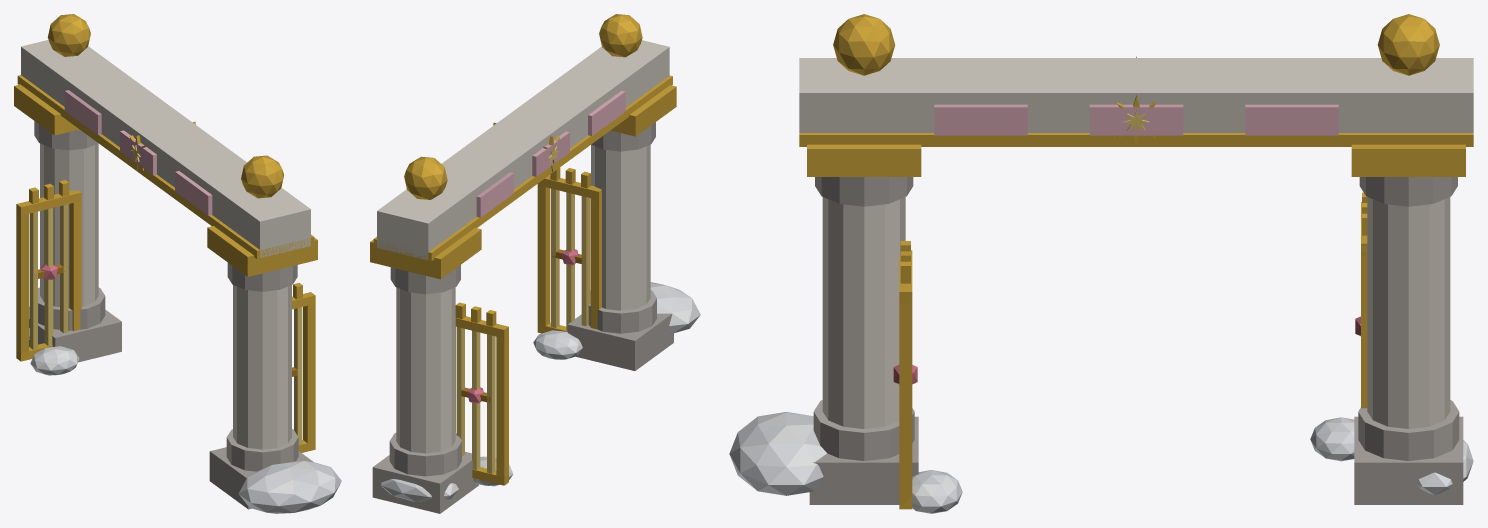
File: Decor_CloudTemple_PearlyGate.fbx
3 views of the same model, side by side, from view 1: azimuth 30°, elevation 25°; view 2: azimuth 150°, elevation 25°; view 3: azimuth 270°, elevation 25° (orthographic). The views are drawn at different scales.
Visible parts, largest first — view 1: PearlyGate_Body; view 2: PearlyGate_Body; view 3: PearlyGate_Body.
Part boxes in pixels (box(x1,y1,x2,y2)): PearlyGate_Body: box(14, 14, 341, 513); PearlyGate_Body: box(370, 14, 700, 513); PearlyGate_Body: box(729, 14, 1473, 513).
Bounding box in the file's own units: 8.2 × 19.8 × 28.7.
